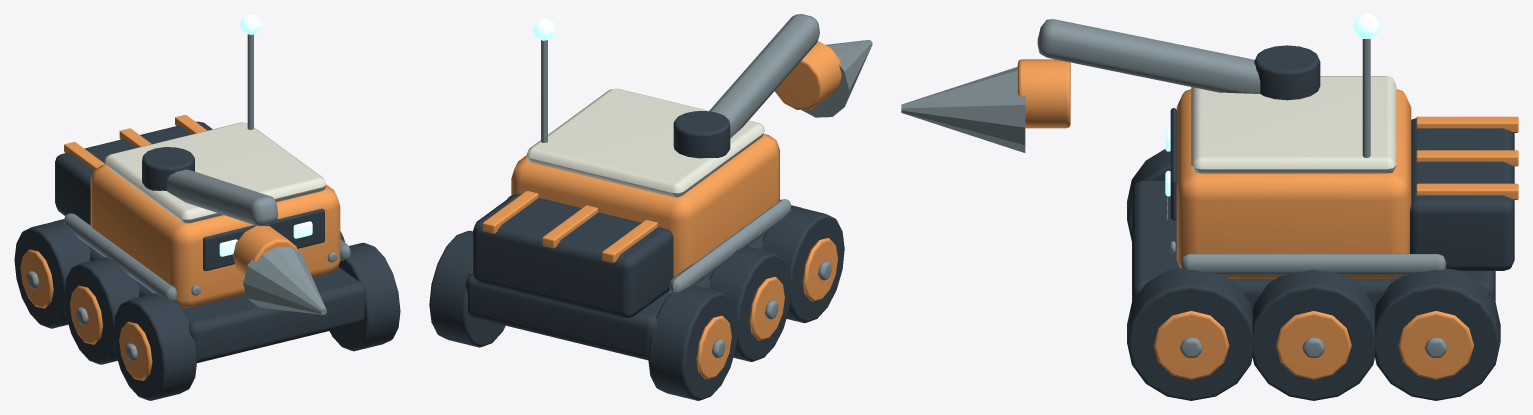
File: miner.glb
The picture shows the model from 3 angles, left to right: view 1: azimuth 30°, elevation 25°; view 2: azimuth 150°, elevation 25°; view 3: azimuth 270°, elevation 25°; orthographic projection. The views are drawn at different scales.
Parts seen in each view (by area): view 1: Suspension chassis, Armored body, Upper ceramic lid, Hub bolt, ToolRotor, Anim_Wheel_-0.88_0, Anim_Wheel_-0.88_0.74, Anim_Wheel_-0.88_-0.74, Optical sensor; view 2: Suspension chassis, Armored body, Upper ceramic lid, Hub bolt, ToolRotor, Anim_Wheel_-0.88_-0.74, Anim_Wheel_-0.88_0.74, Anim_Wheel_-0.88_0, Optical sensor; view 3: Suspension chassis, Armored body, Upper ceramic lid, Hub bolt, ToolRotor, Anim_Wheel_0.88_-0.74, Anim_Wheel_0.88_0, Anim_Wheel_0.88_0.74, Optical sensor.
Part boxes in pixels (bbox=[...]): Suspension chassis: bbox=[14, 121, 400, 400]; Armored body: bbox=[64, 115, 340, 308]; Upper ceramic lid: bbox=[104, 122, 326, 279]; Hub bolt: bbox=[26, 34, 350, 361]; ToolRotor: bbox=[243, 246, 326, 314]; Anim_Wheel_-0.88_0: bbox=[70, 285, 102, 344]; Anim_Wheel_-0.88_0.74: bbox=[20, 249, 53, 308]; Anim_Wheel_-0.88_-0.74: bbox=[119, 321, 152, 380]; Optical sensor: bbox=[219, 14, 312, 256]; Suspension chassis: bbox=[429, 111, 844, 400]; Armored body: bbox=[482, 41, 841, 277]; Upper ceramic lid: bbox=[526, 88, 764, 197]; Hub bolt: bbox=[541, 14, 831, 358]; ToolRotor: bbox=[801, 40, 872, 117]; Anim_Wheel_-0.88_-0.74: bbox=[802, 238, 837, 301]; Anim_Wheel_-0.88_0.74: bbox=[696, 315, 731, 379]; Anim_Wheel_-0.88_0: bbox=[749, 276, 784, 340]; Optical sensor: bbox=[533, 18, 555, 40]; Suspension chassis: bbox=[1127, 45, 1514, 400]; Armored body: bbox=[1017, 59, 1518, 278]; Upper ceramic lid: bbox=[1167, 76, 1396, 219]; Hub bolt: bbox=[1037, 19, 1447, 357]; ToolRotor: bbox=[901, 67, 1025, 152]; Anim_Wheel_0.88_-0.74: bbox=[1153, 311, 1229, 379]; Anim_Wheel_0.88_0: bbox=[1275, 311, 1351, 379]; Anim_Wheel_0.88_0.74: bbox=[1398, 311, 1473, 379]; Optical sensor: bbox=[1165, 14, 1379, 196].
Size of the model in its own units: 2.22 by 2.37 by 3.73.
